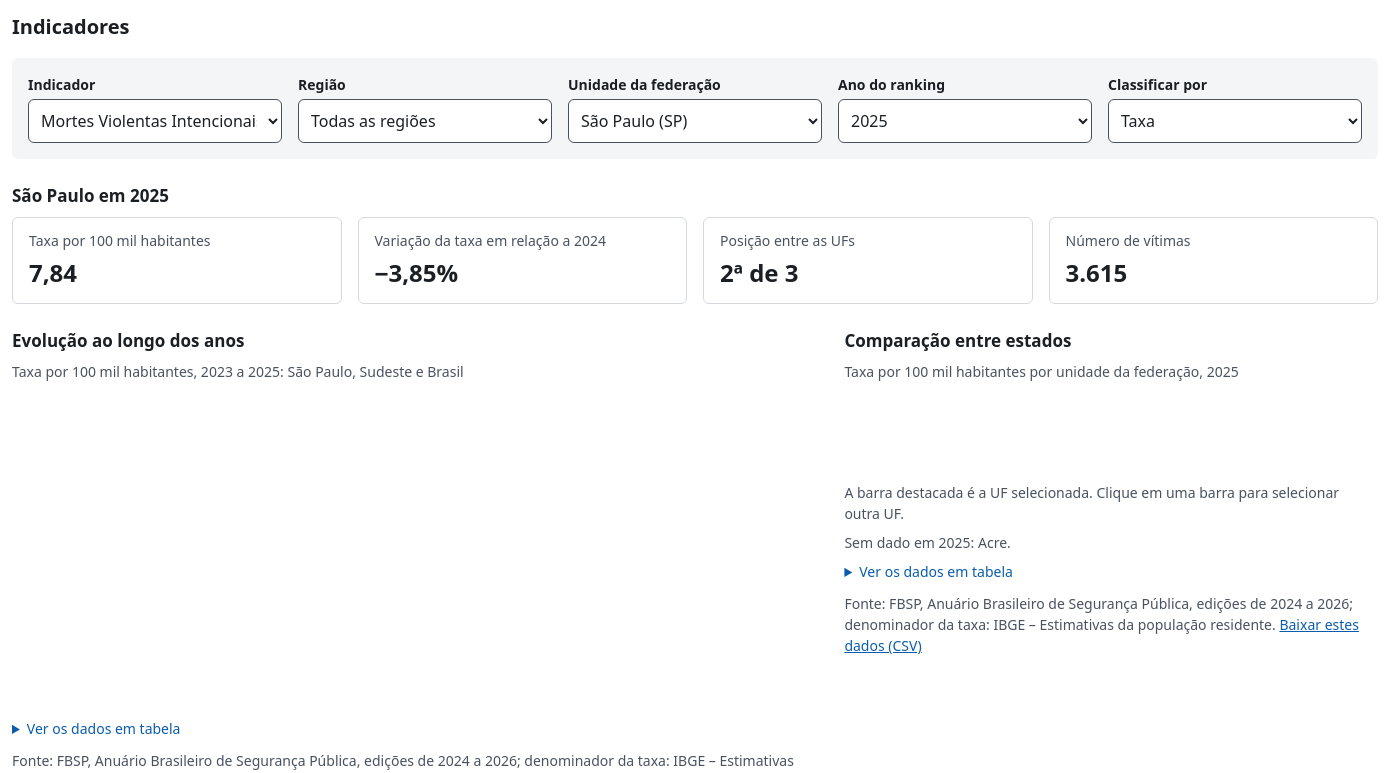
Test case: trocar o indicador refaz as consultas e volta ao último ano
Check: the heading "São Paulo em 2025" is shown, box [12,184,169,207]
Select "2023" in the dropdown labelled "Ano do ranking" at [965, 121], box [838,99,1092,143]
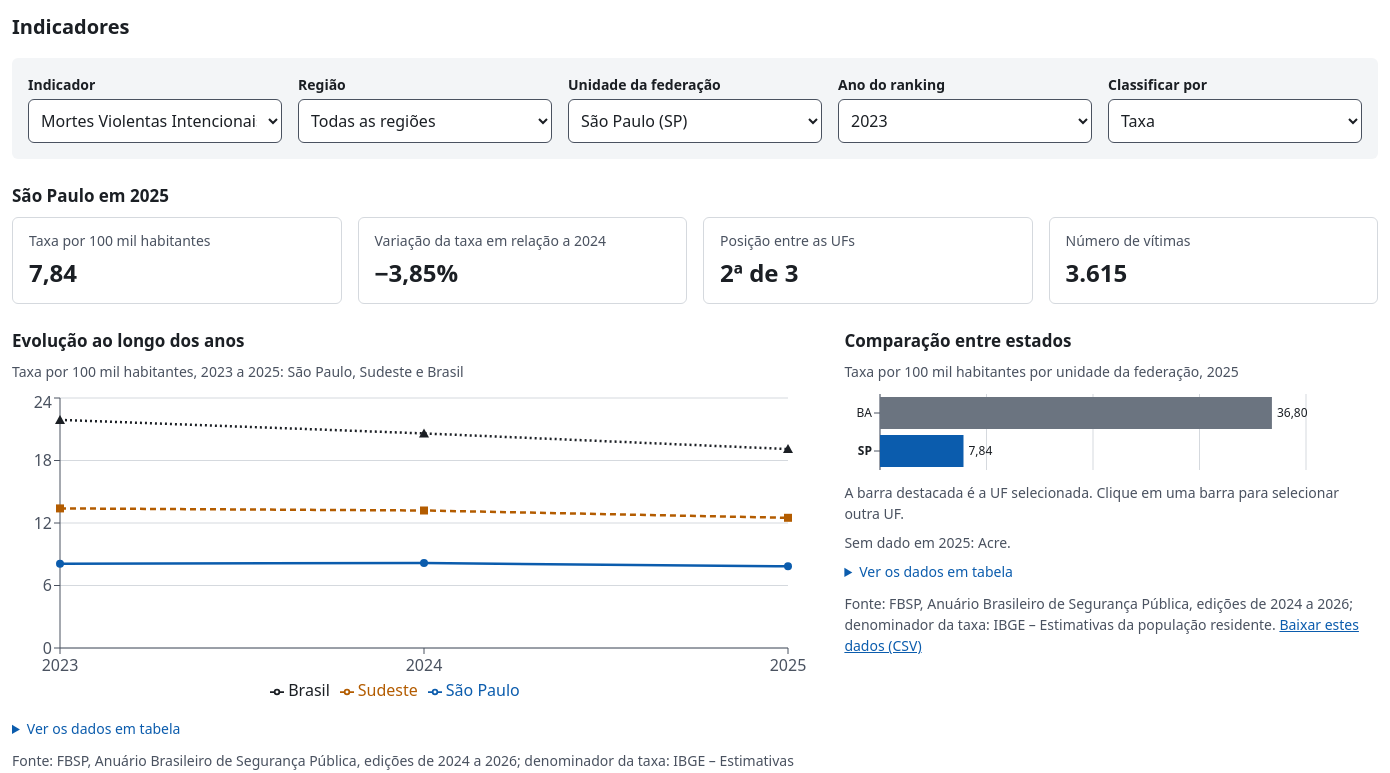
Select "Feminicídio" in the dropdown labelled "Indicador" at [155, 121], box [28,99,282,143]
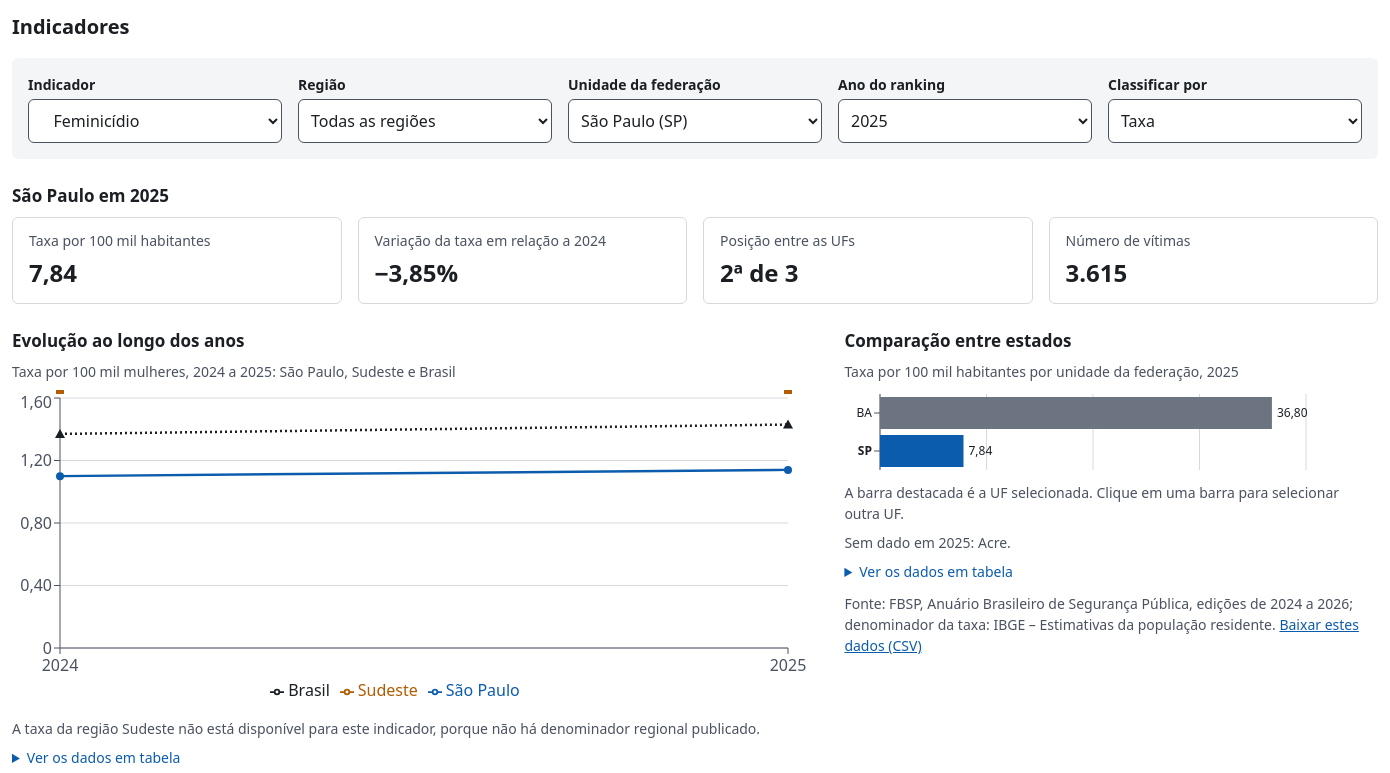
Check: the text "taxa da região Sudeste não está disponível" is shown, box [12,718,812,739]
